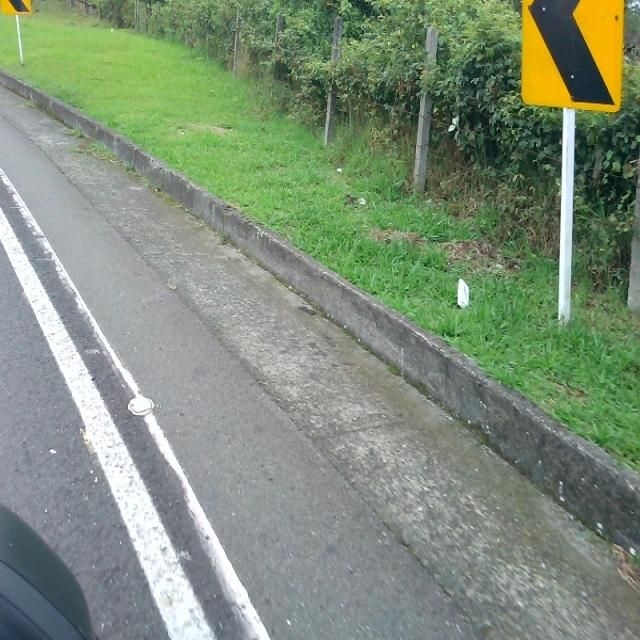DITCH: (1, 25, 638, 638), (1, 72, 638, 637)
